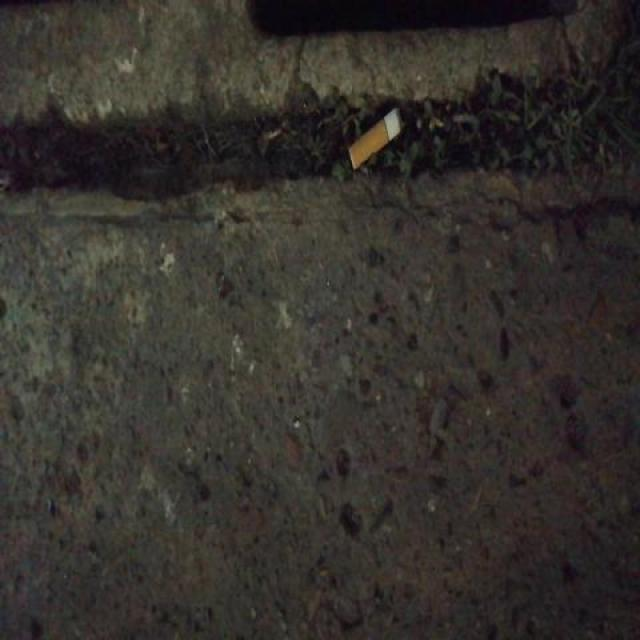non-organic waste: (344, 102, 404, 174)
